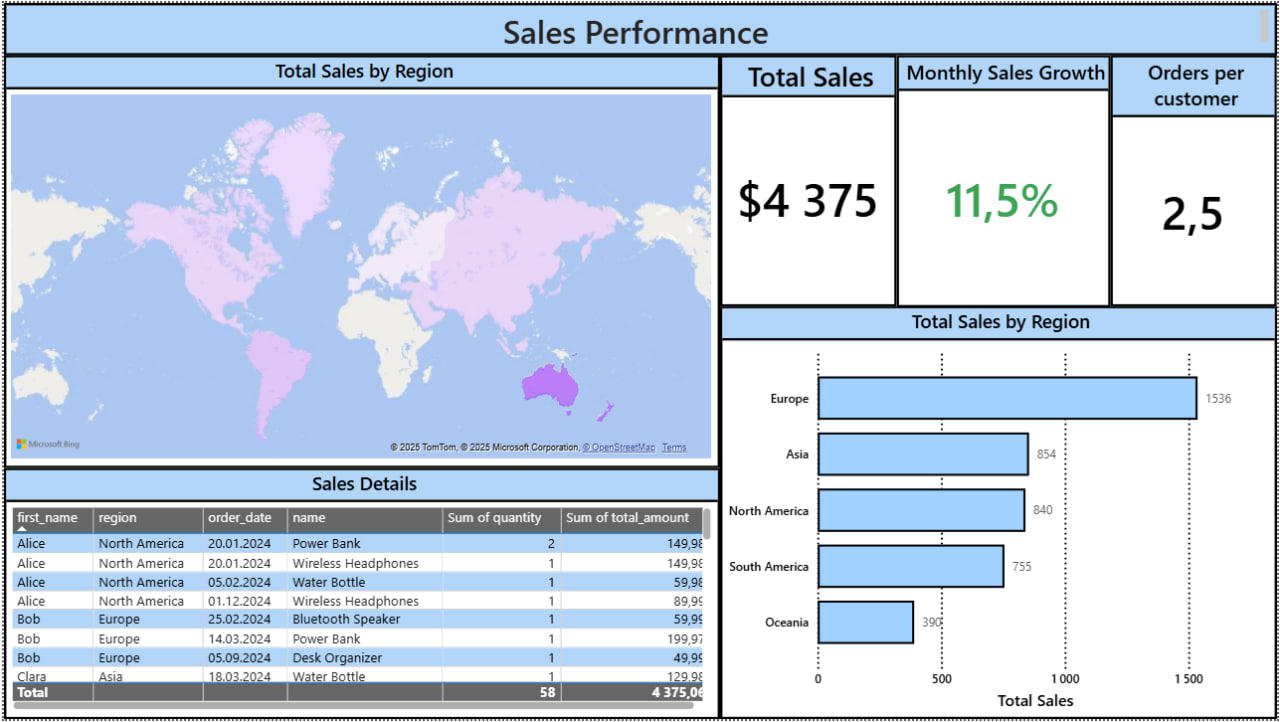

This screenshot's page, from the dashboard's own definition file:
{"tool":"powerbi","page":{"name":"Sales Performance","canvas":[1280,720],"ordinal":1},"visuals":[{"type":"filledMap","title":"Total Sales by Region","fields":{"Category":["ecommerce_analysis customers.region"],"Series":["ecommerce_analysis orders.total_amount"]},"box":[0,52.5,720,415],"z":0},{"type":"tableEx","title":"Sales Details","fields":{"Values":["ecommerce_analysis customers.first_name","ecommerce_analysis customers.region","ecommerce_analysis orders.order_date.Изменение.Иерархия дат.Год","ecommerce_analysis products.name","ecommerce_analysis order_items.quantity","ecommerce_analysis orders.total_amount"]},"box":[0,467.5,720,252.5],"z":1000},{"type":"clusteredBarChart","title":"Total Sales by Region","fields":{"Category":["ecommerce_analysis customers.region"],"Y":["ecommerce_analysis orders.Total Sales"]},"box":[720,305,560,415],"z":2000},{"type":"card","title":"Orders per customer","fields":{"Values":["ecommerce_analysis orders.Avg Orders per Customer"]},"box":[1112.5,52.5,167.5,252.5],"z":3000},{"type":"card","title":"Total Sales","fields":{"Values":["ecommerce_analysis orders.Total Sales"]},"box":[720,52.5,177.5,252.5],"z":4000},{"type":"textbox","box":[0,0,1280,52.5],"z":5000},{"type":"card","title":"Monthly Sales Growth","fields":{"Values":["ecommerce_analysis orders.Growth %"]},"box":[897.5,52.5,215,253.8],"z":6000}]}

Visuals, with their boxes in screenshot pixels (x1, y1, x2, y2), scaled from the page's 1280x720 canvas onto the 1280x722 screenshot:
"Total Sales by Region" filledMap: l=0, t=53, r=720, b=469
"Sales Details" tableEx: l=0, t=469, r=720, b=721
"Total Sales by Region" clusteredBarChart: l=720, t=306, r=1279, b=721
"Orders per customer" card: l=1112, t=53, r=1279, b=306
"Total Sales" card: l=720, t=53, r=898, b=306
textbox: l=0, t=0, r=1279, b=53
"Monthly Sales Growth" card: l=898, t=53, r=1112, b=307
